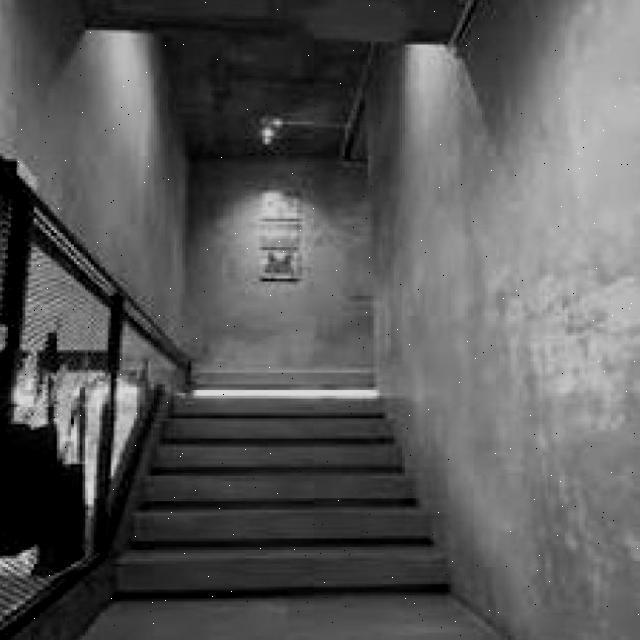stair: (116, 362, 439, 575)
